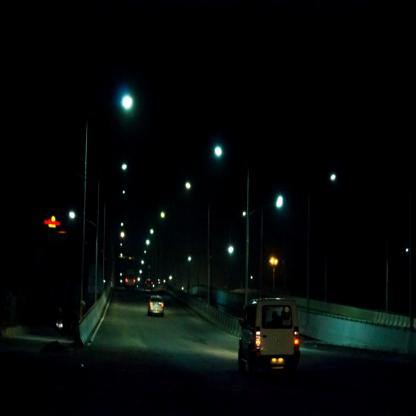Car: (240, 297, 305, 381), (150, 295, 167, 321)
